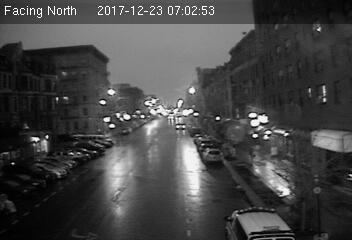car: (201, 147, 223, 163), (174, 121, 186, 129)
police: (224, 202, 301, 240)
